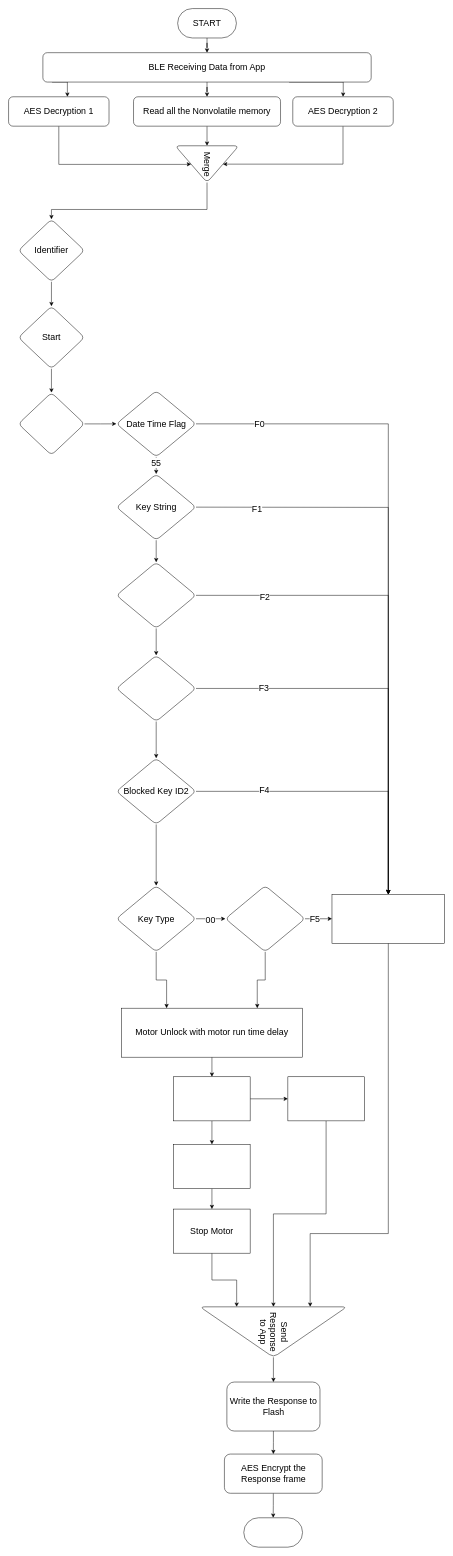
This 453x1556 diagram has some shape labels left out. Here are the shapes that lost their labels. From the top down, the box of each, then its label:
(18, 392, 85, 455): end
(116, 562, 196, 628): Key User Flag
(116, 655, 196, 722): Blocked Key ID1
(225, 885, 305, 952): Dead Bolt Status
(331, 894, 445, 943): Door Locked position
(173, 1076, 250, 1121): Lock Back time
(287, 1076, 364, 1121): Handle Interrupt
(173, 1144, 250, 1188): Lock Motor
(243, 1517, 303, 1547): Send to App
